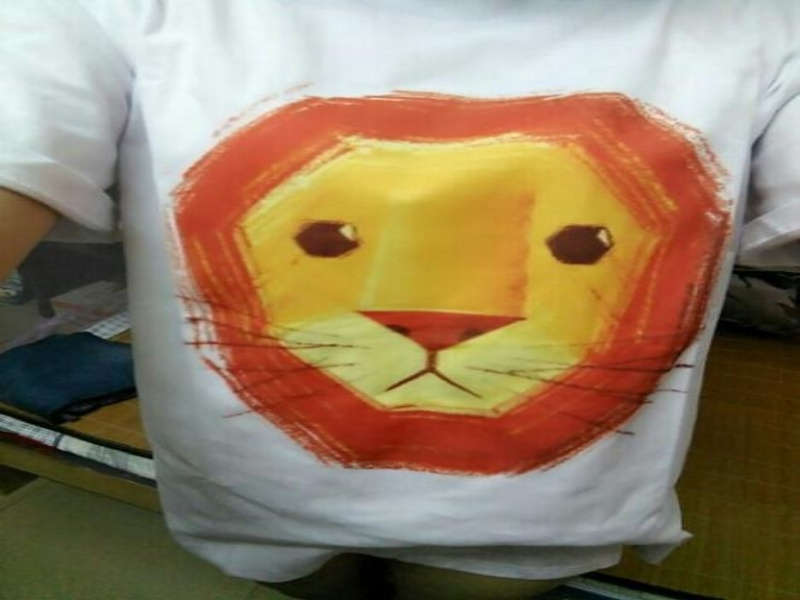short_sleeved_shirt: (0, 0, 798, 587)
